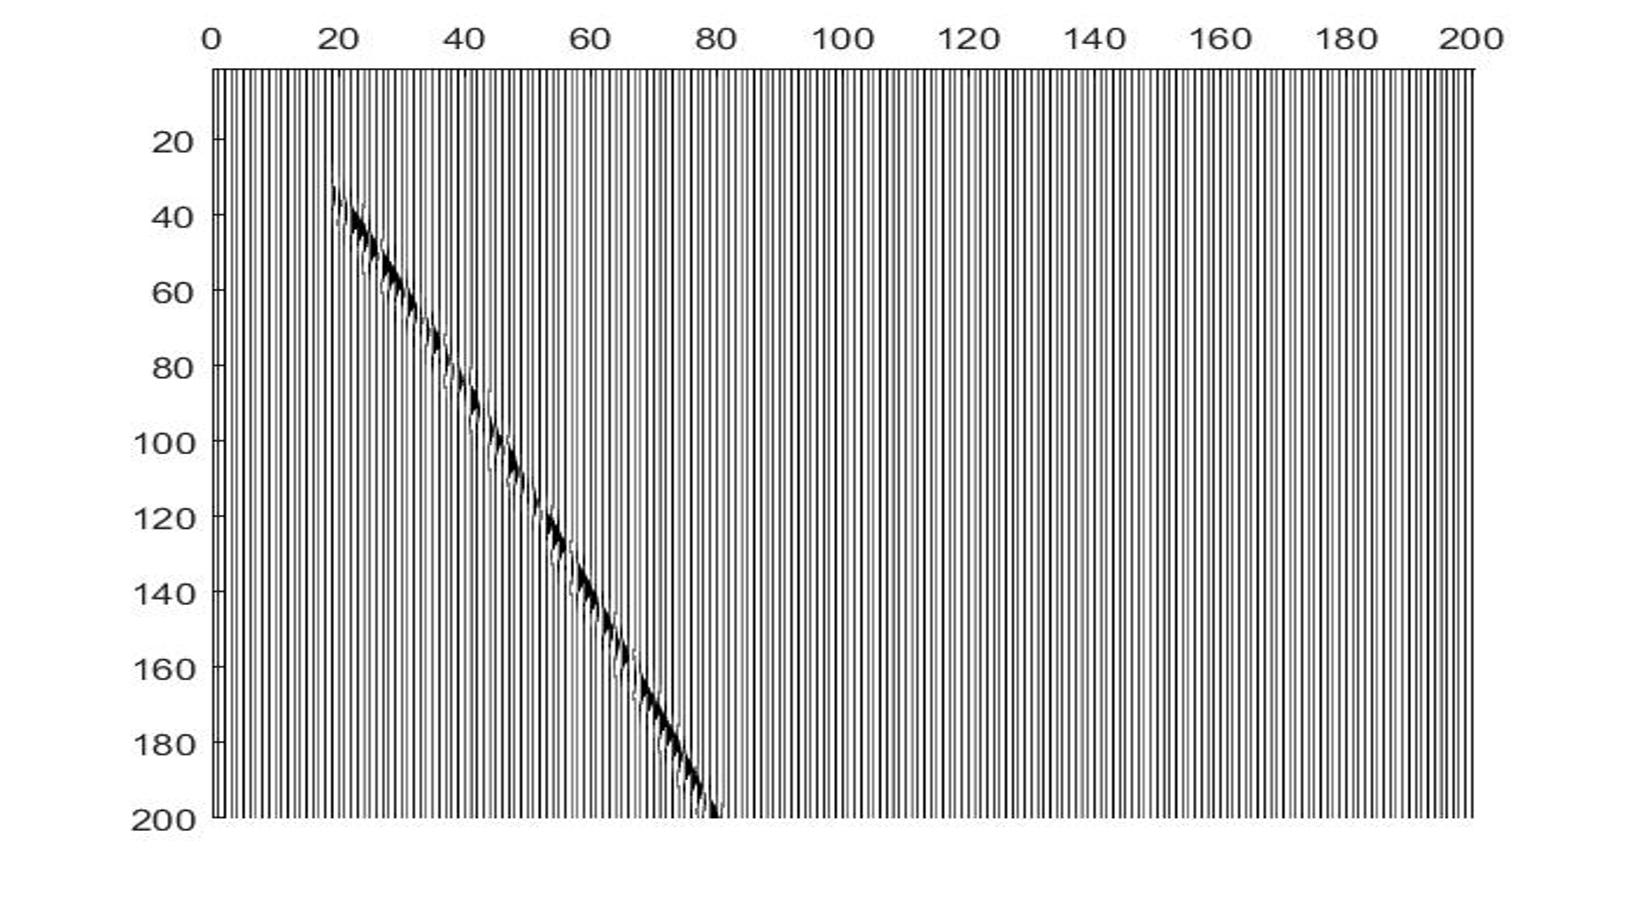signal: (319, 170, 727, 814)
